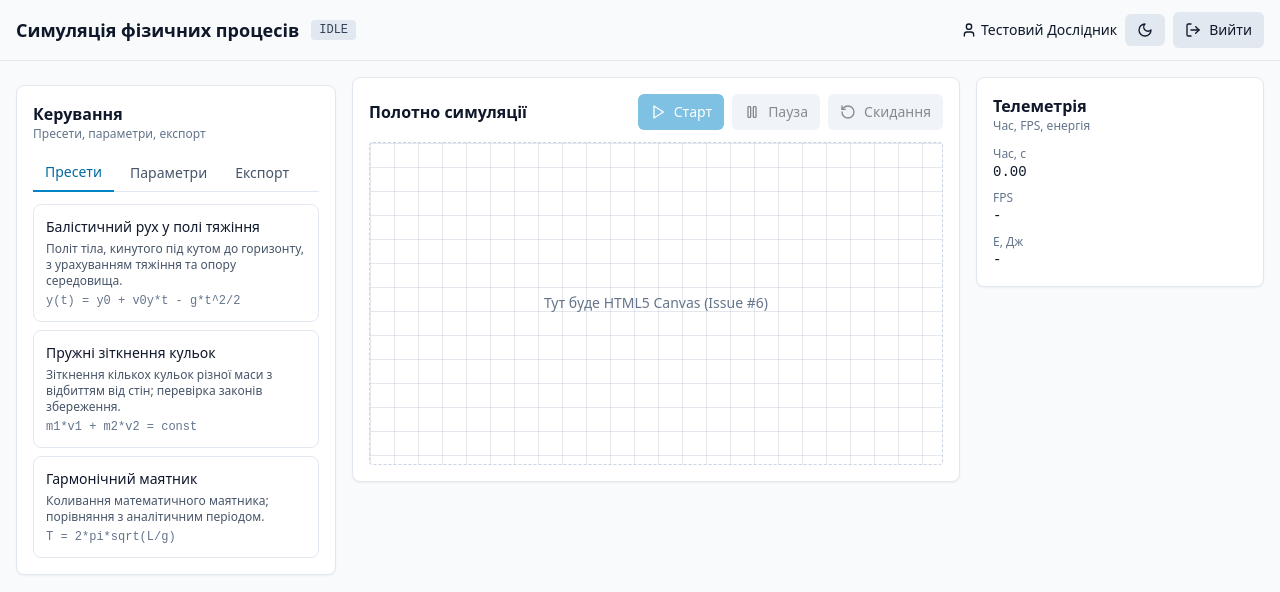
Test: Інтеграція App › показує заглушку у вкладці "Параметри"
The width and height of the screenshot is (1280, 592).
Click the tab "Параметри" at (169, 173), box [118, 154, 219, 192]
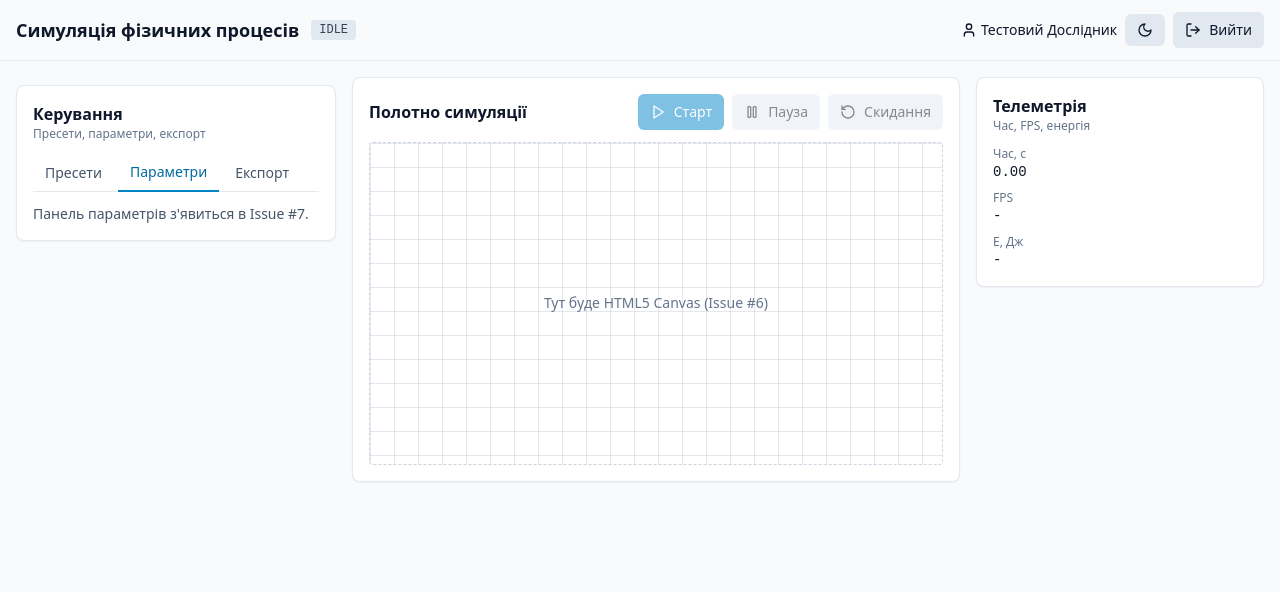
Result: the text "Панель параметрів з'явиться в Issue #7." is shown at [33, 204, 319, 224]
